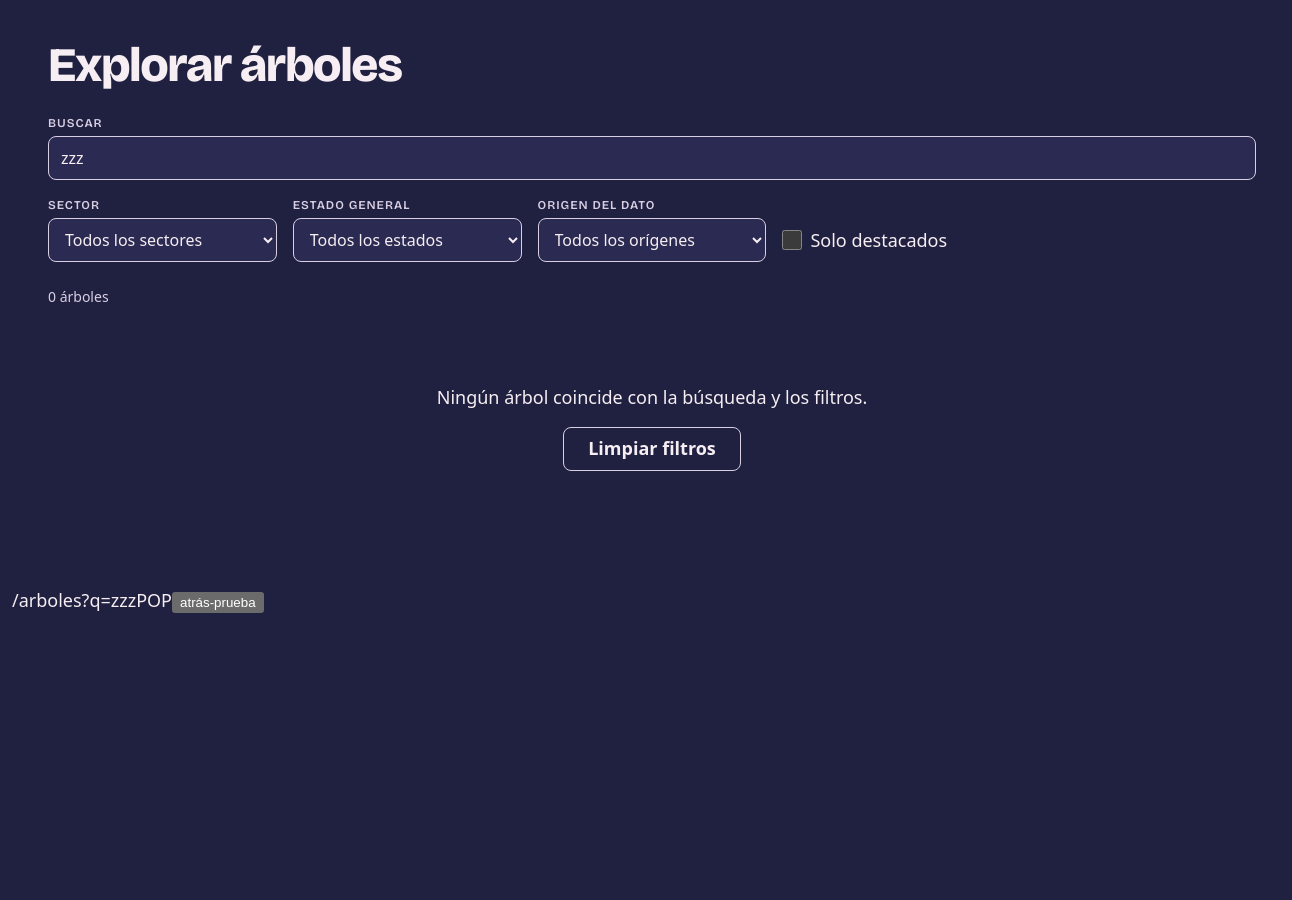
Scenario: VistaExplorar: buscador, filtros y URL › buscador › «atrás» y «Limpiar filtros» actualizan lo que se ve en el buscador
The width and height of the screenshot is (1292, 900).
Check: the text "Ningún árbol coincide con la búsqueda y los filtros." is shown, box top-left (437, 384), bottom-right (867, 411)
Check: the search field holds "zzz", box top-left (48, 136), bottom-right (1256, 180)
Step 1. Click the button "Limpiar filtros" → {"x": 652, "y": 449}, box top-left (563, 427), bottom-right (741, 471)
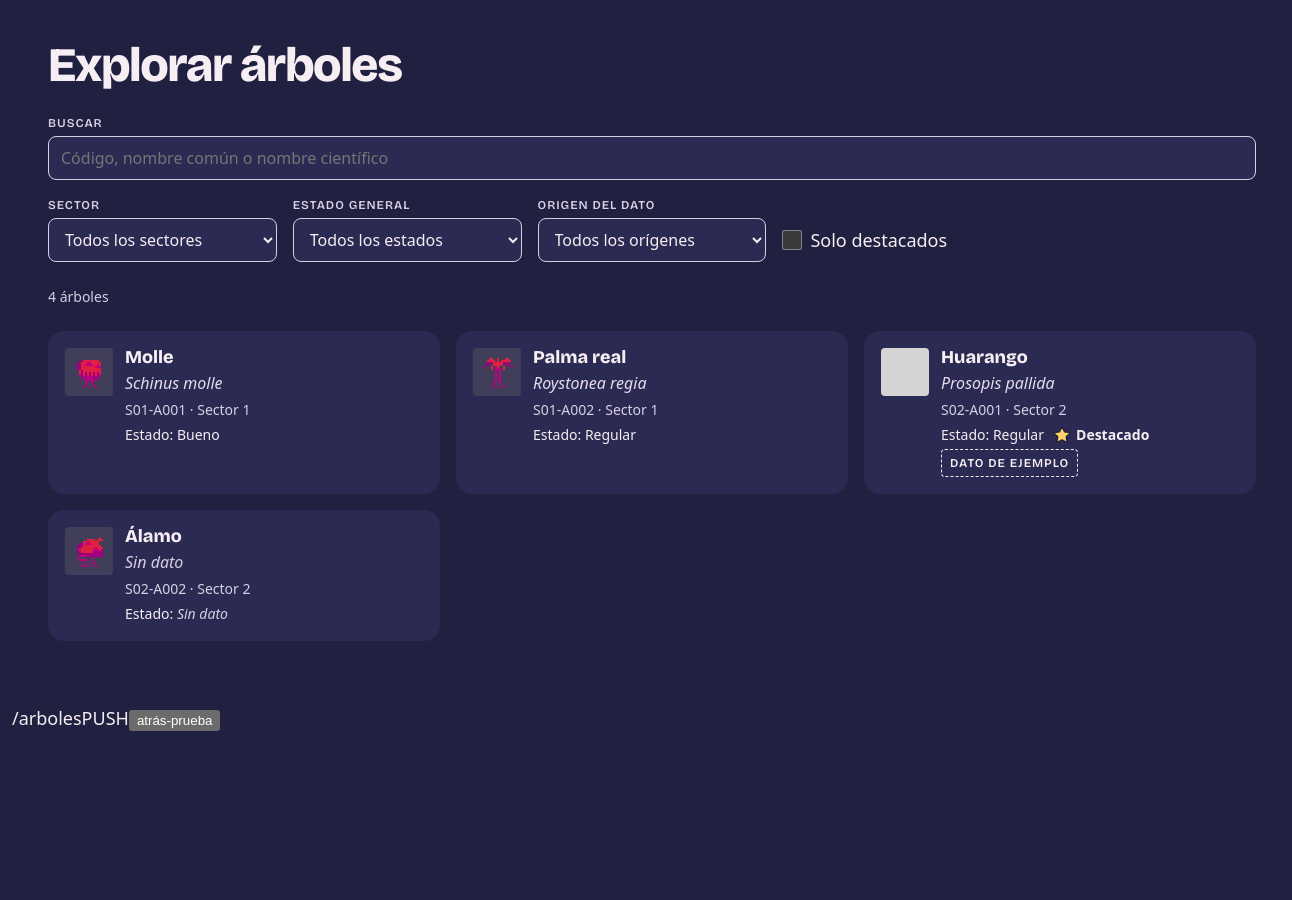
Check: the search field is empty, box top-left (48, 136), bottom-right (1256, 180)
Step 2. Click the button "atrás-prueba" → {"x": 175, "y": 721}, box top-left (129, 710), bottom-right (220, 731)
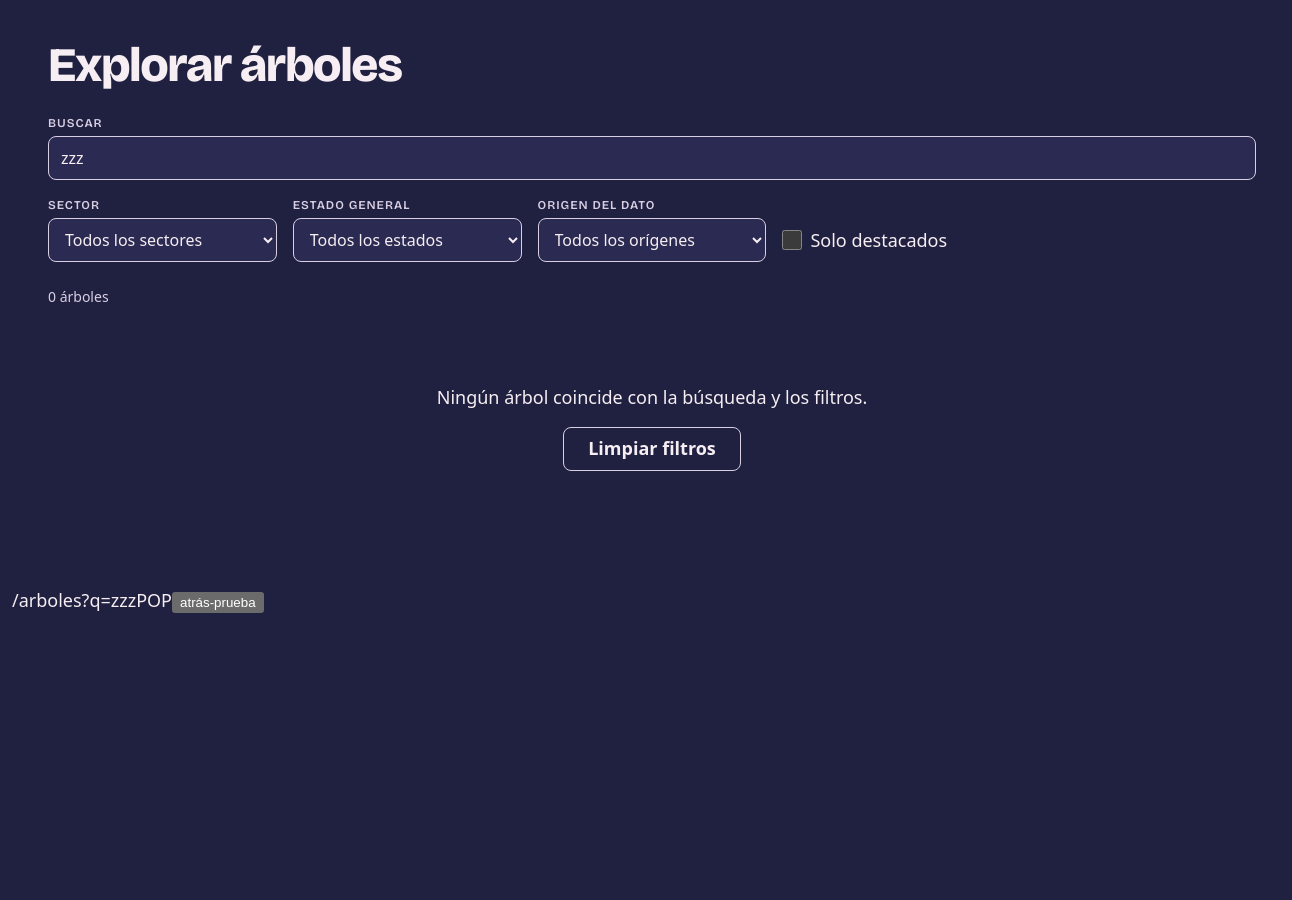
Check: the text "Ningún árbol coincide con la búsqueda y los filtros." is shown, box top-left (437, 384), bottom-right (867, 411)
Check: the search field holds "zzz", box top-left (48, 136), bottom-right (1256, 180)
